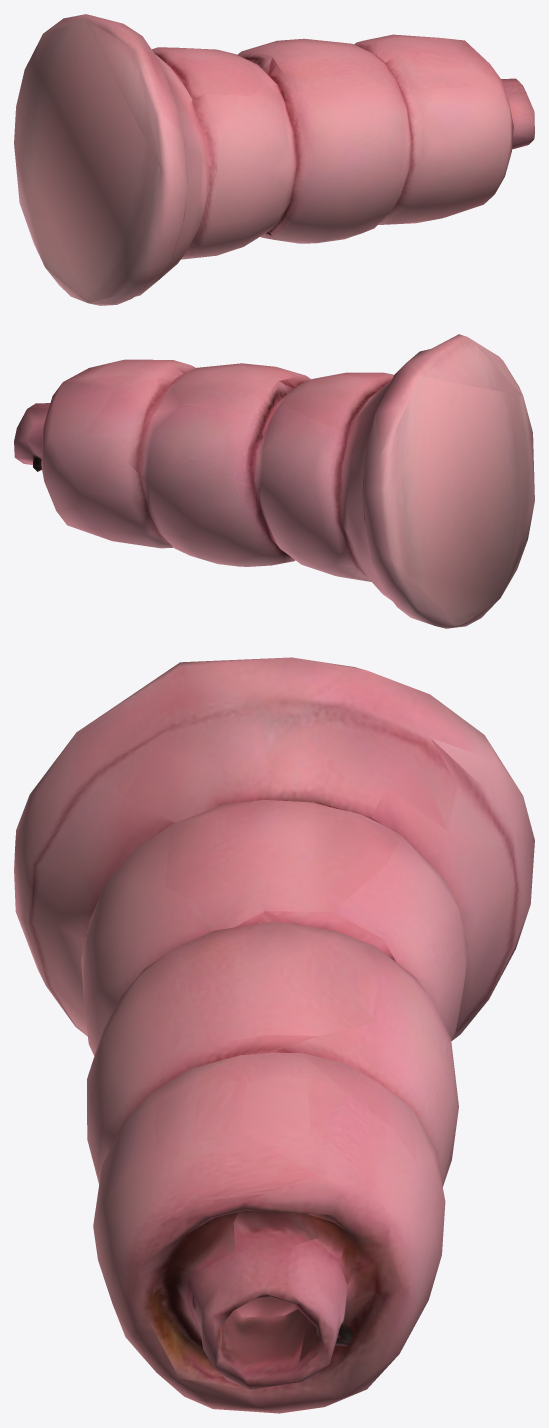
Rendered from leg2_chirimecha.glb.
The picture shows the model from 3 angles, top to bottom: view 1: azimuth 30°, elevation 25°; view 2: azimuth 150°, elevation 25°; view 3: azimuth 270°, elevation 25°; orthographic projection. The views are drawn at different scales.
Parts seen in each view (by area): view 1: leg 2; view 2: leg 2; view 3: leg 2.
Part boxes in pixels (x1,y1,x2,y2): leg 2: (14, 14, 534, 305); leg 2: (14, 334, 534, 628); leg 2: (14, 657, 534, 1413).
Size of the model in its own units: 1.62 by 0.8902 by 0.9026.
Materials: 1 (1 with a texture image).
